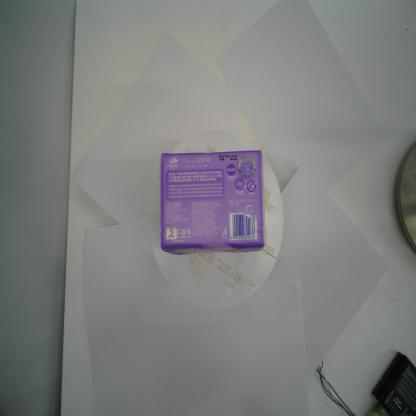Tissue: (157, 148, 268, 256)
